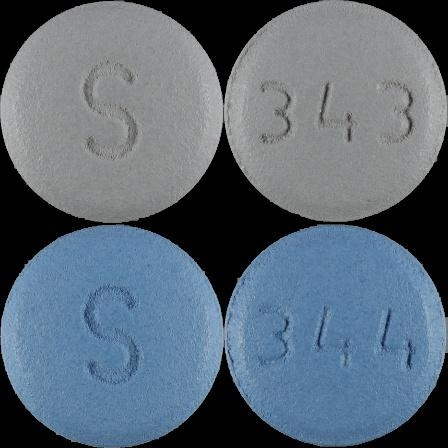70786-0337: (0, 0, 224, 224)
